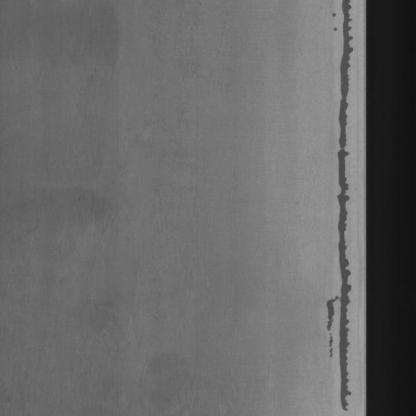oil_spot: (316, 1, 356, 416)
